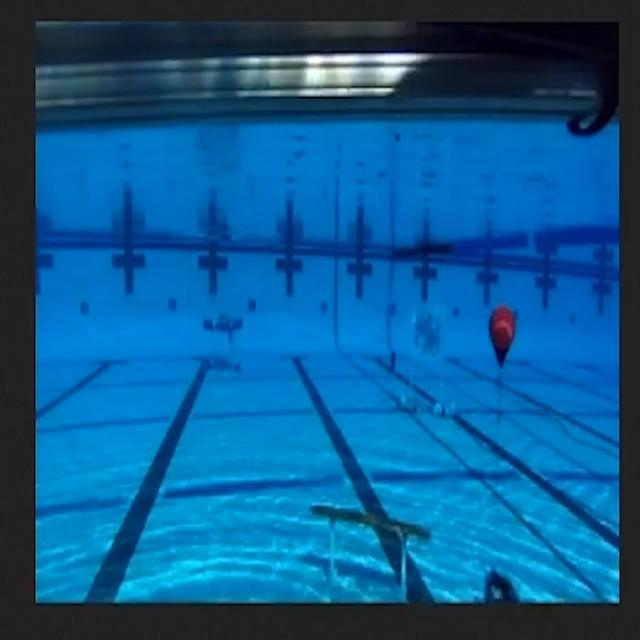Buoy: (487, 303, 518, 374)
